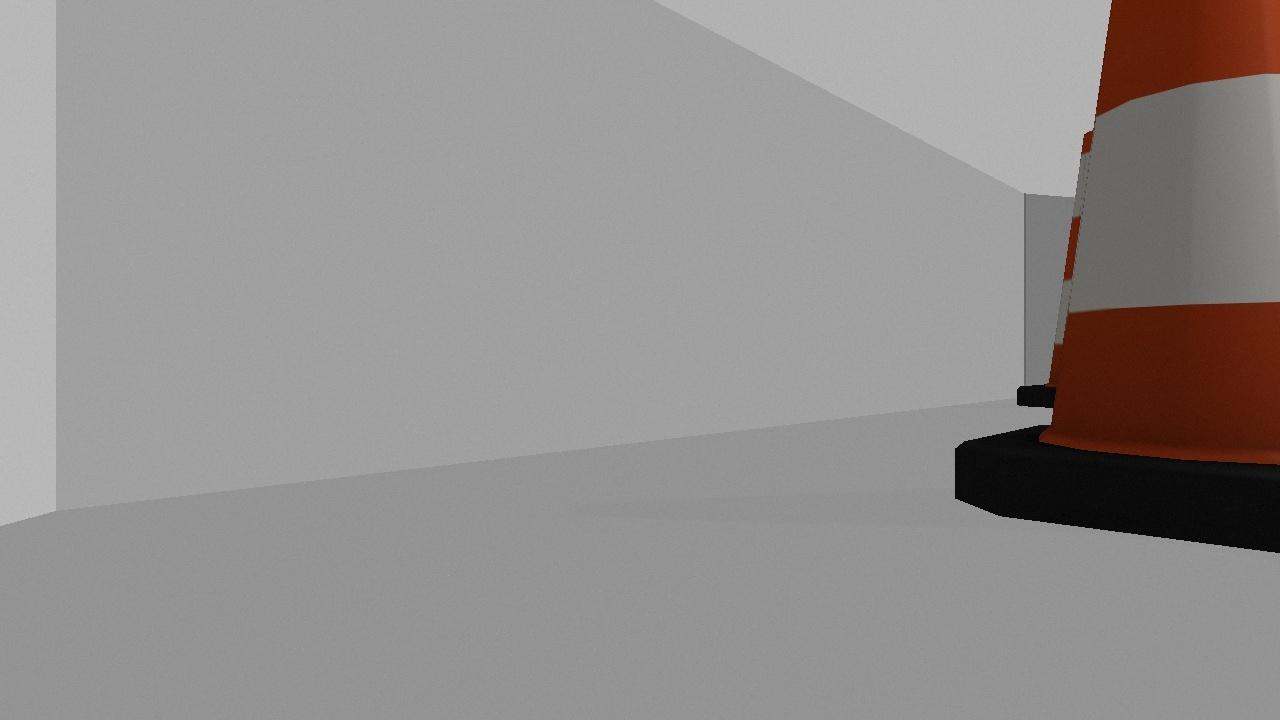cone_barrel: (949, 8, 1279, 555)
